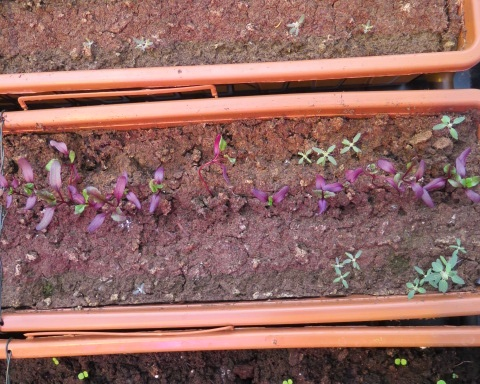crop: (87, 168, 140, 235), (195, 133, 237, 198), (36, 160, 64, 233), (374, 156, 422, 198), (451, 149, 480, 207), (49, 139, 84, 180), (16, 156, 41, 210), (66, 183, 104, 215), (310, 173, 335, 215), (347, 164, 388, 189), (325, 168, 364, 194), (148, 166, 168, 214), (249, 186, 291, 206), (1, 174, 15, 209)
weed: (430, 257, 467, 291), (429, 113, 468, 142), (336, 130, 363, 155), (412, 265, 438, 290), (312, 146, 338, 165), (406, 278, 426, 300), (285, 15, 307, 35), (344, 251, 363, 269), (448, 237, 467, 254), (335, 268, 351, 288), (132, 36, 153, 49), (296, 149, 312, 165), (391, 356, 409, 367), (360, 19, 374, 33), (330, 257, 344, 271), (131, 283, 147, 294), (75, 370, 90, 380), (84, 38, 94, 48), (52, 357, 60, 366)
